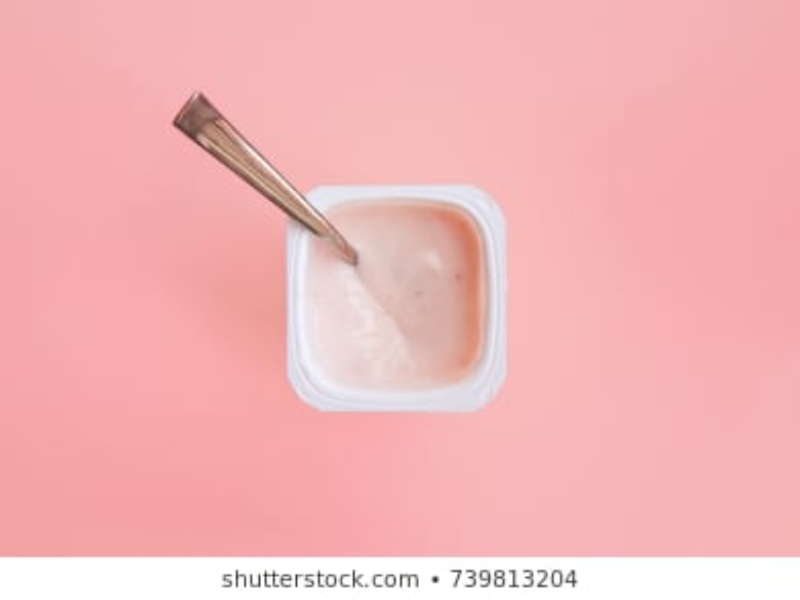yogurt-cup: (281, 184, 511, 414)
